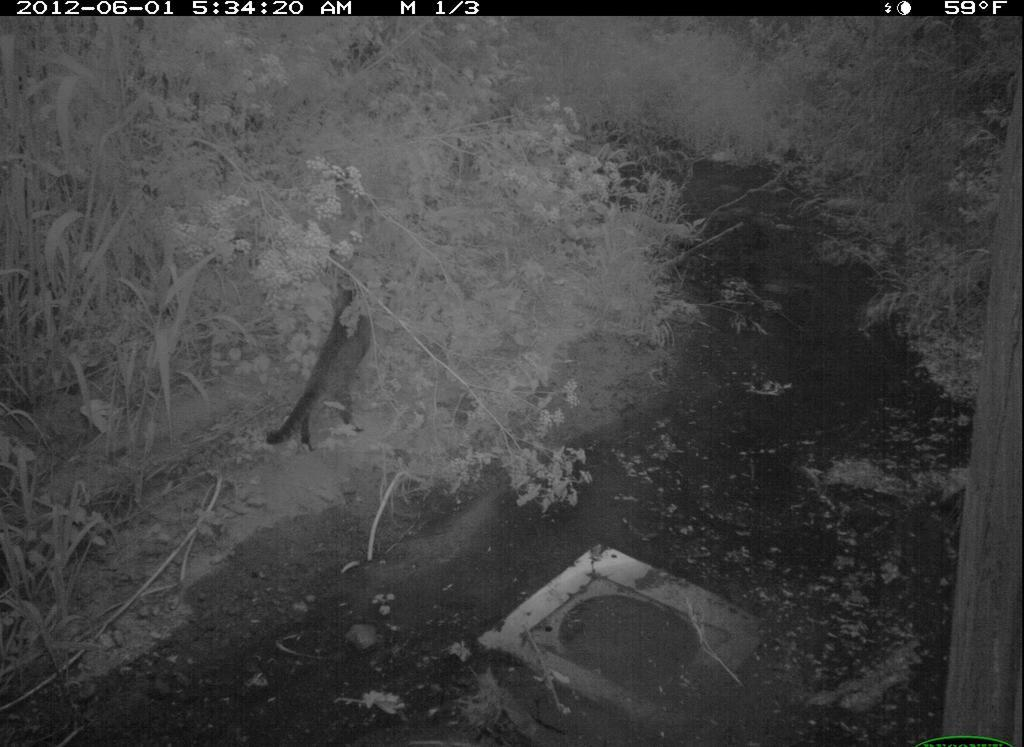cat: (262, 280, 386, 459)
